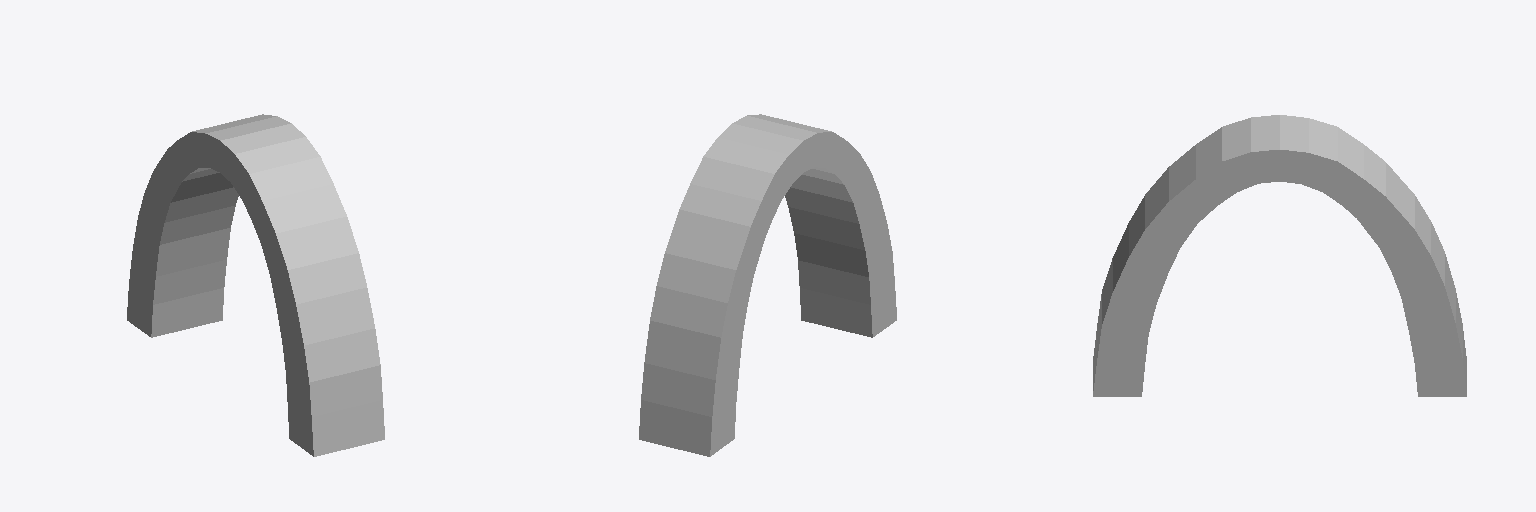
The model's file is Koepel.obj.
3 views of the same model, side by side, from view 1: azimuth 30°, elevation 25°; view 2: azimuth 150°, elevation 25°; view 3: azimuth 270°, elevation 25° (orthographic).
Visible parts, largest first — view 1: koepel1; view 2: koepel1; view 3: koepel1.
Part boxes in pixels (left/top/right/bottom): koepel1: left=127, top=114, right=384, bottom=456; koepel1: left=639, top=114, right=896, bottom=456; koepel1: left=1093, top=115, right=1466, bottom=396.
Bounding box in the file's own units: 1.88 × 6.25 × 8.56.